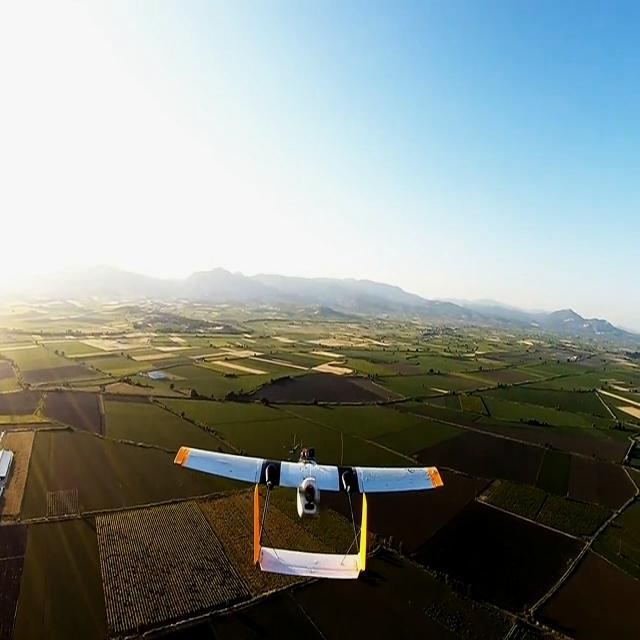iha: (169, 437, 450, 597)
